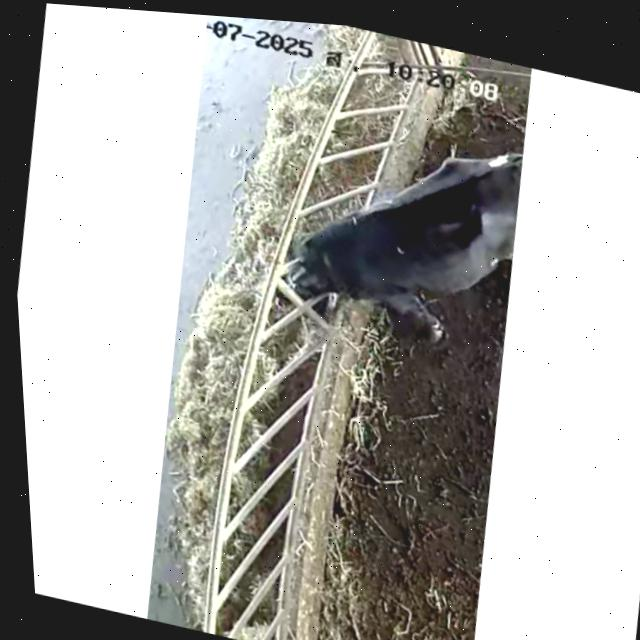eat: (226, 195, 437, 358)
